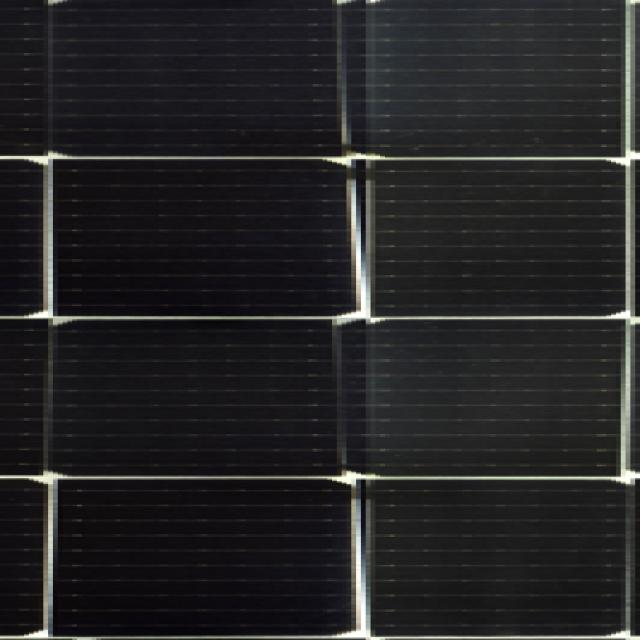MISALIGNMENT: (253, 5, 431, 175), (308, 306, 412, 474)
